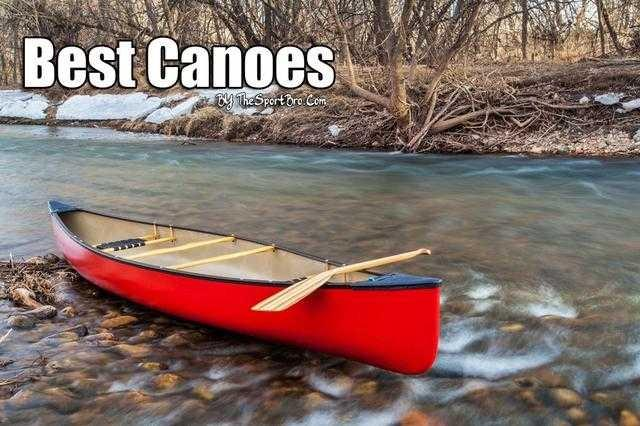kayak: (46, 199, 442, 377)
